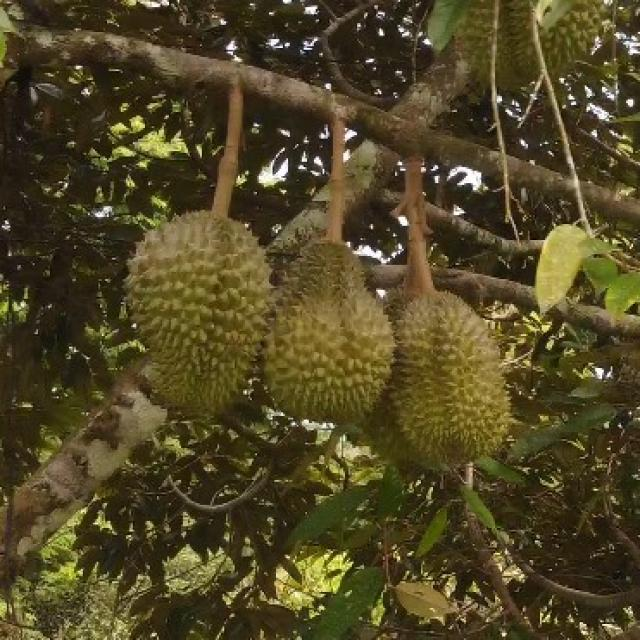immature: (123, 206, 270, 418), (257, 234, 394, 426), (382, 288, 516, 470)
